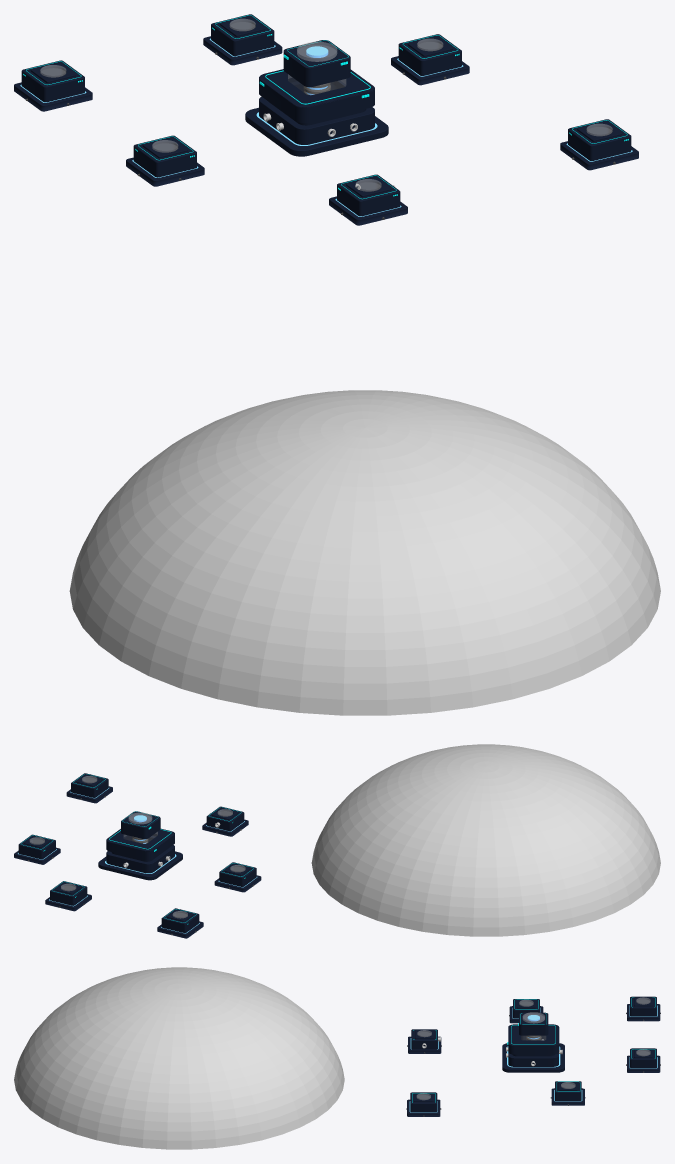
Rendered from Test_for_blender(15)copy.glb.
The picture shows the model from 3 angles, top to bottom: view 1: azimuth 30°, elevation 25°; view 2: azimuth 150°, elevation 25°; view 3: azimuth 270°, elevation 25°; orthographic projection. The views are drawn at different scales.
Visible parts, largest first — view 1: Sphere, Cube, Platform.004, Platform.003, Platform.005, Platform.001, Platform.002, Platform; view 2: Sphere, Cube, Platform.003, Platform.004, Platform.005, Platform.001, Platform.002, Platform; view 3: Sphere, Cube, Platform.003, Platform.002, Platform.001, Platform.004, Platform, Platform.005.
Boxes of the visible parts, left/top/right/bottom form: Sphere: left=69, top=390, right=660, bottom=715; Cube: left=245, top=40, right=388, bottom=156; Platform.004: left=203, top=14, right=282, bottom=65; Platform.003: left=14, top=60, right=92, bottom=111; Platform.005: left=126, top=135, right=204, bottom=186; Platform.001: left=391, top=34, right=469, bottom=85; Platform.002: left=560, top=119, right=638, bottom=170; Platform: left=329, top=174, right=407, bottom=225; Sphere: left=311, top=744, right=660, bottom=936; Cube: left=98, top=811, right=182, bottom=880; Platform.003: left=157, top=908, right=203, bottom=938; Platform.004: left=45, top=881, right=91, bottom=911; Platform.005: left=214, top=862, right=261, bottom=892; Platform.001: left=14, top=834, right=60, bottom=864; Platform.002: left=66, top=773, right=112, bottom=803; Platform: left=202, top=806, right=248, bottom=836; Sphere: left=14, top=967, right=344, bottom=1149; Cube: left=502, top=1012, right=564, bottom=1072; Platform.003: left=627, top=996, right=660, bottom=1021; Platform.002: left=407, top=1092, right=440, bottom=1116; Platform.001: left=551, top=1081, right=584, bottom=1105; Platform.004: left=627, top=1048, right=660, bottom=1072; Platform: left=408, top=1029, right=441, bottom=1053; Platform.005: left=509, top=999, right=543, bottom=1023.
Bounding box in the file's own units: 62.26 × 19.71 × 84.82.
